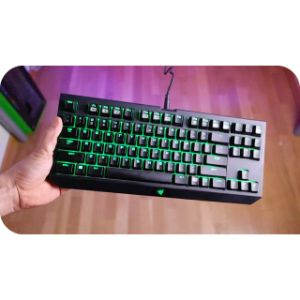keyboard: (49, 82, 268, 206)
